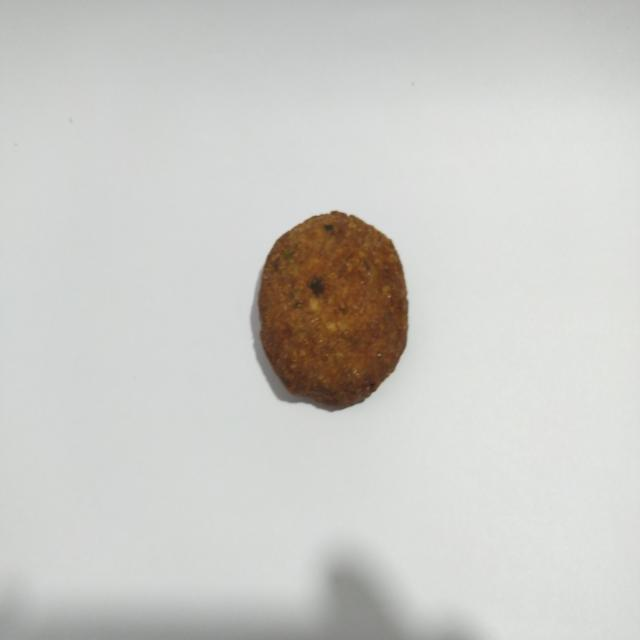Pajagua: (250, 198, 414, 422)
